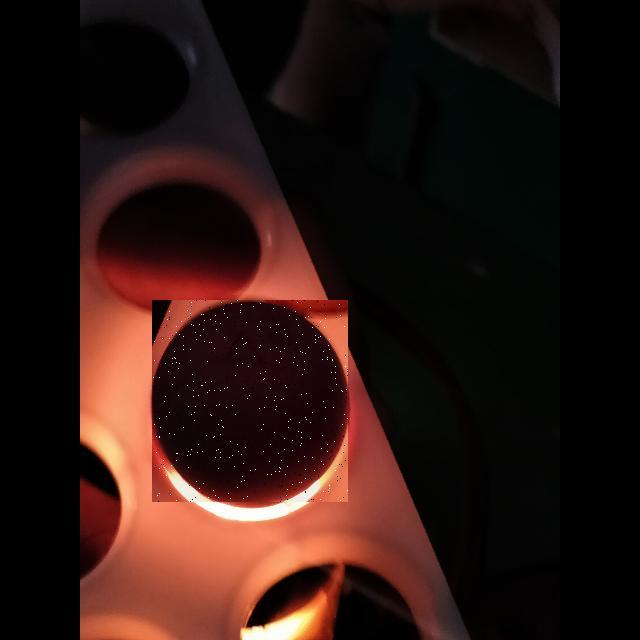Fertile: (152, 300, 348, 502)
